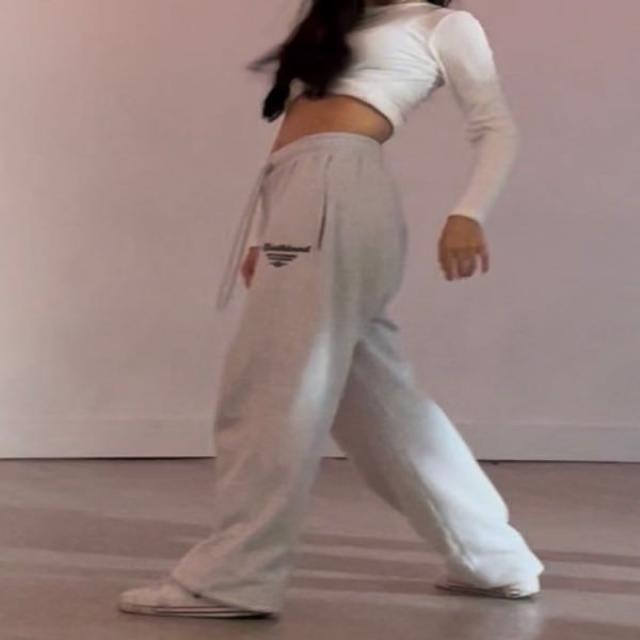longsleeve: (258, 4, 524, 244)
trainingpants: (171, 127, 540, 615)
